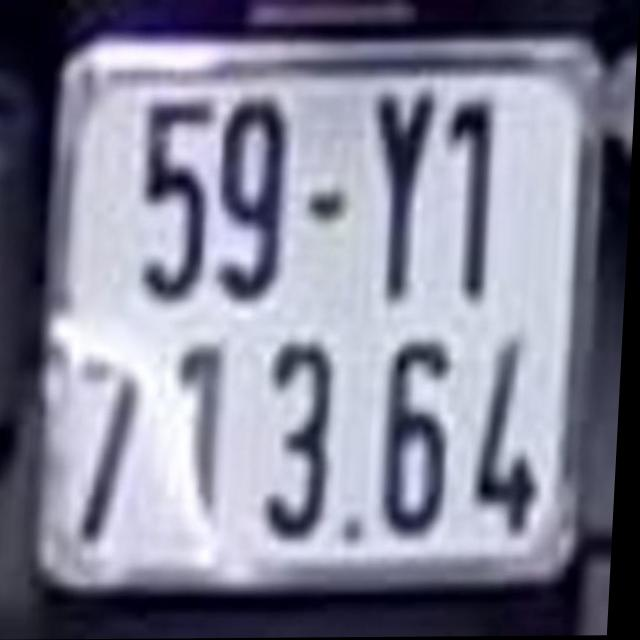1: (437, 90, 510, 297), (172, 343, 241, 541)
3: (268, 341, 339, 537)
4: (475, 336, 551, 528)
5: (141, 99, 218, 290)
6: (380, 338, 462, 538)
7: (74, 350, 150, 546)
9: (219, 102, 287, 293)
Y: (365, 98, 437, 298)
